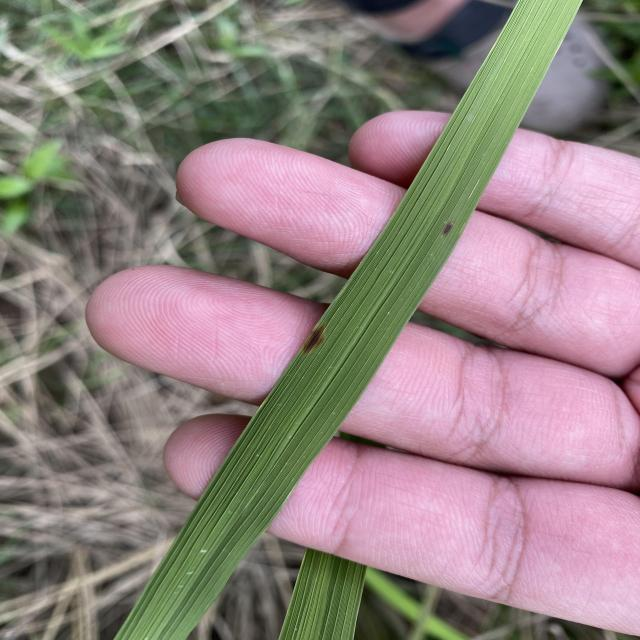Dom nau: (299, 323, 327, 354), (437, 219, 455, 240)
